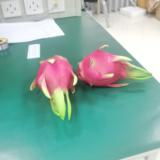pitaya: (74, 48, 153, 89), (37, 55, 78, 116)
